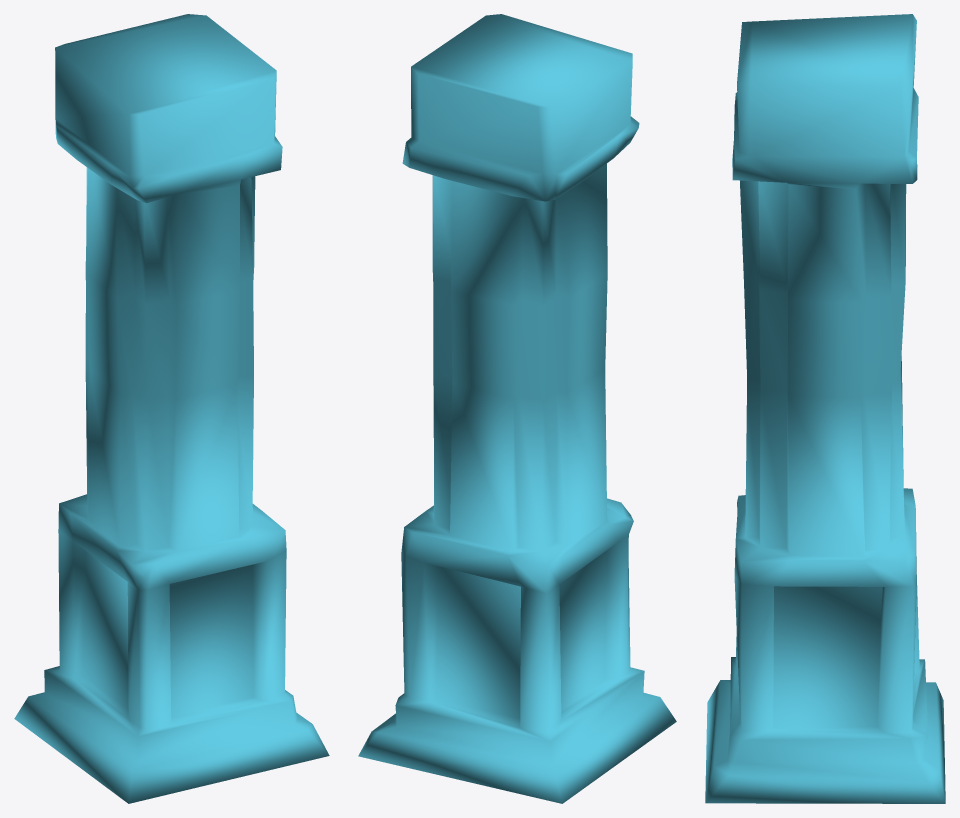
The model's file is column_02.FBX.
The picture shows the model from 3 angles, left to right: view 1: azimuth 30°, elevation 25°; view 2: azimuth 150°, elevation 25°; view 3: azimuth 270°, elevation 25°; orthographic projection. The views are drawn at different scales.
Parts seen in each view (by area): view 1: column_02; view 2: column_02; view 3: column_02.
Boxes of the visible parts, <box> form: column_02: <box>14,14,329,803</box>; column_02: <box>358,14,676,803</box>; column_02: <box>705,14,945,803</box>.
Bounding box in the file's own units: 36.36 × 117 × 36.15.
